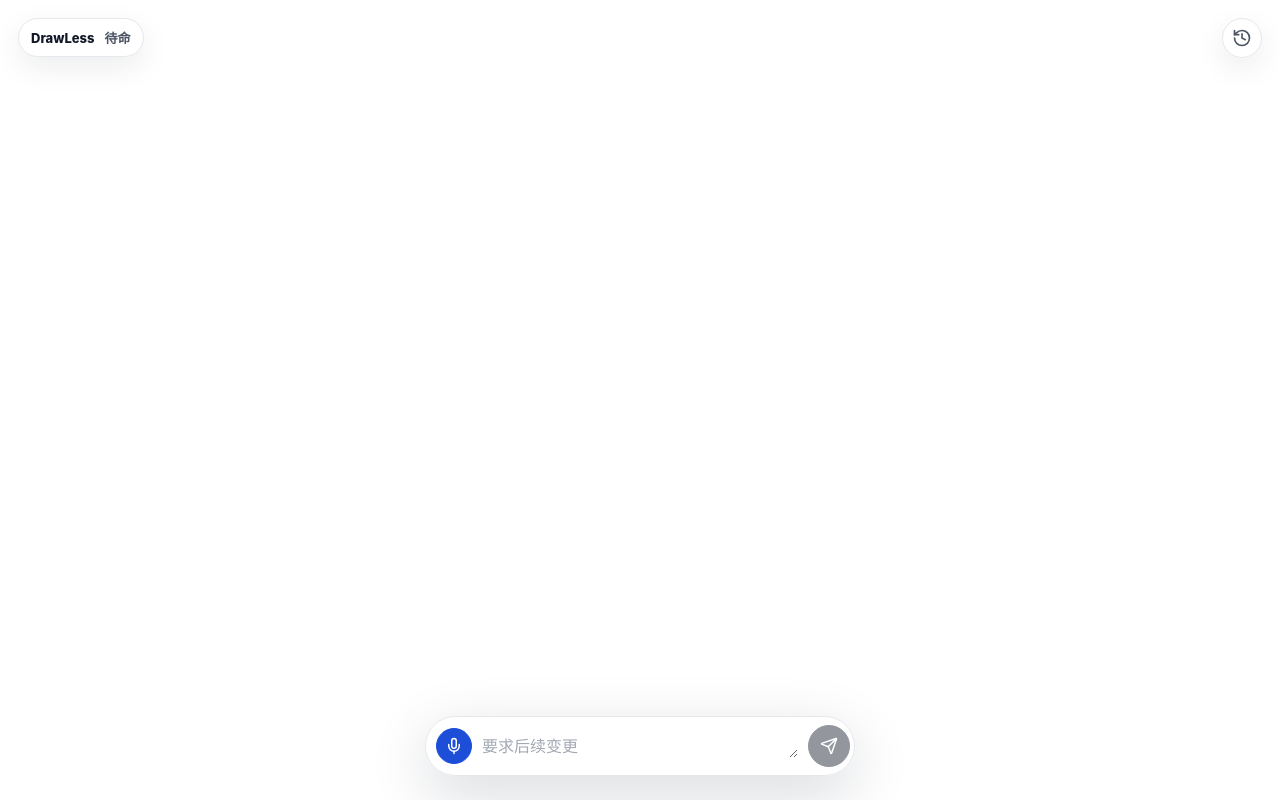
Scenario: App speech fallback › uses a full-canvas workspace with a centered floating command box
Expected: the form named "底部绘图对话框" is shown, [425,716,855,776]
Expected: the button named "查看对话历史" is shown, [1222,18,1262,58]
In the text box named "输入绘图指令": {"x": 640, "y": 746} [482,734,798,758], type "画一个很长很长的产品流程图，左边是用户输入，中间是 AI 理解，右边是可编辑画布，然后继续添加说明文字"
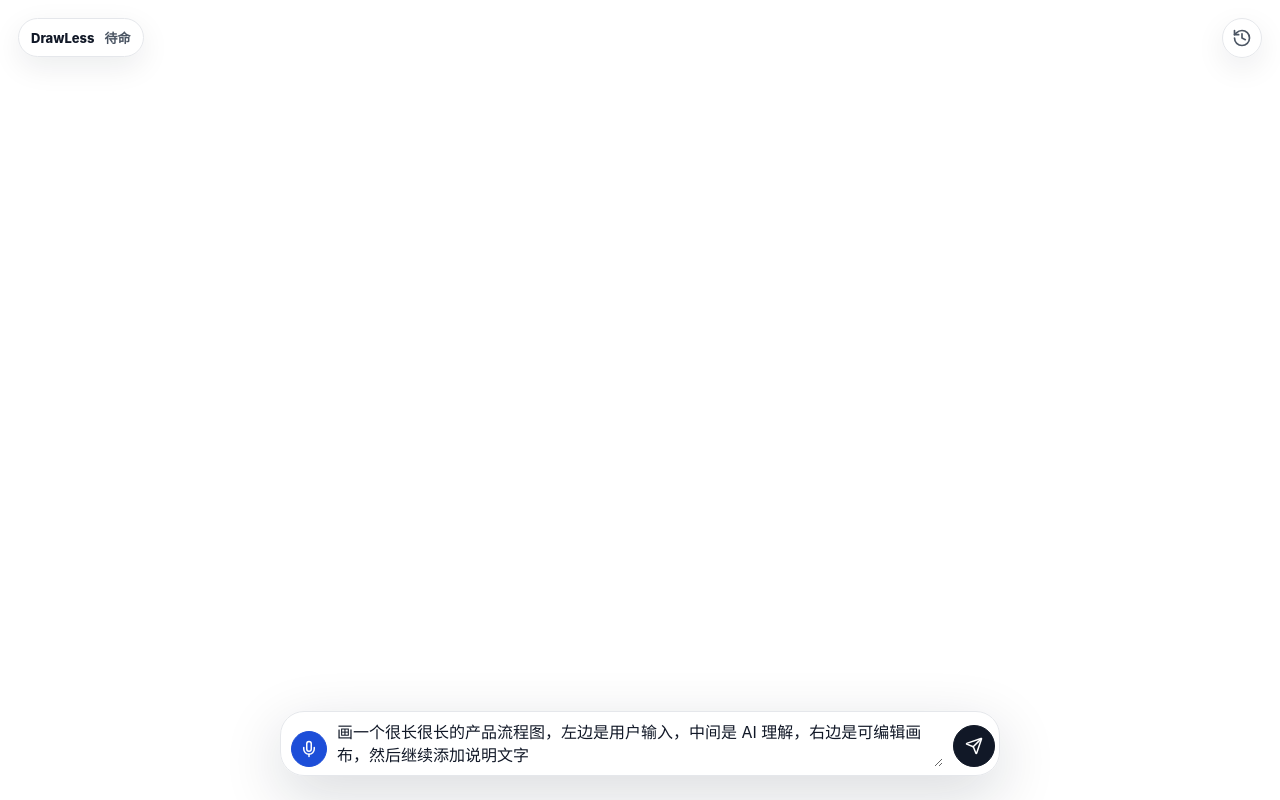
Expected: the form named "底部绘图对话框" has class "is-expanded", [280,711,1000,776]
Expected: the text box named "输入绘图指令" has attribute rows="2"
Clear the text box named "输入绘图指令": {"x": 640, "y": 743} [337,720,943,767]
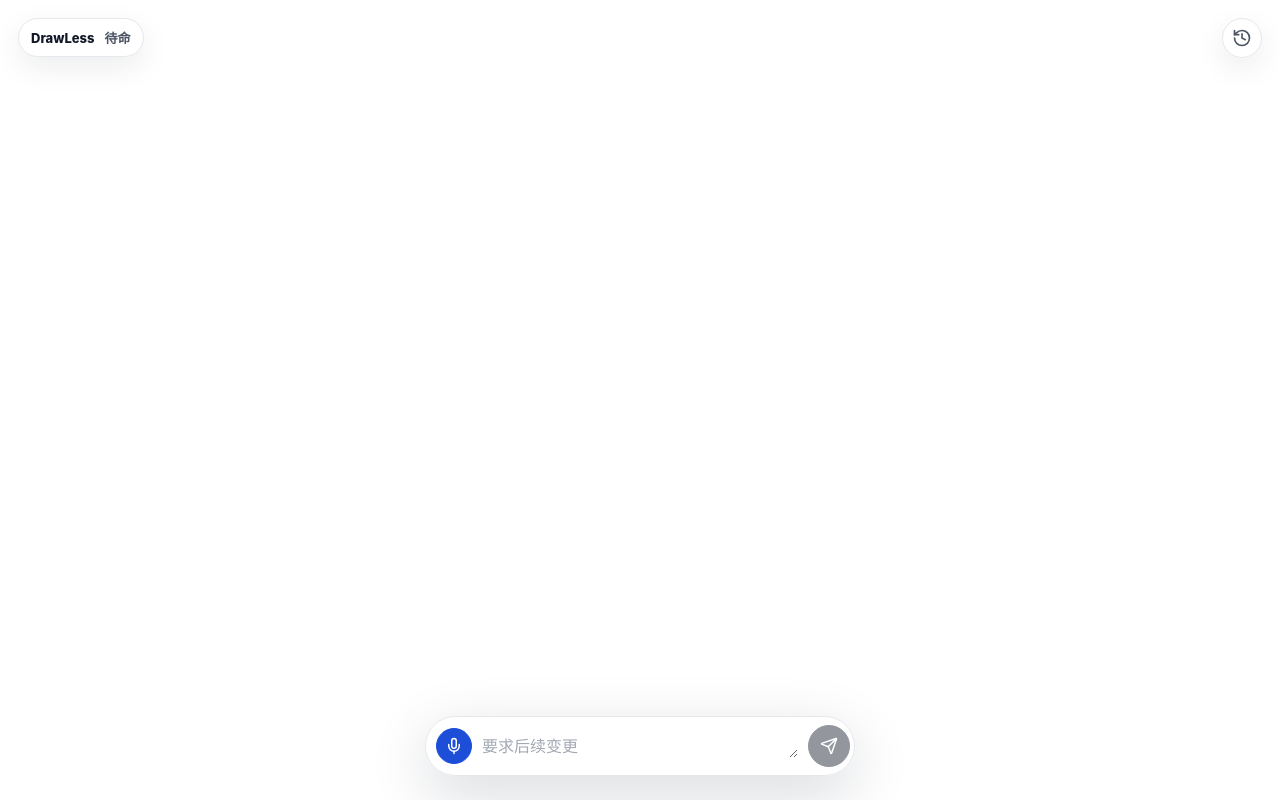
In the text box named "输入绘图指令": {"x": 640, "y": 746} [482,734,798,758], type "画一个红色圆形"
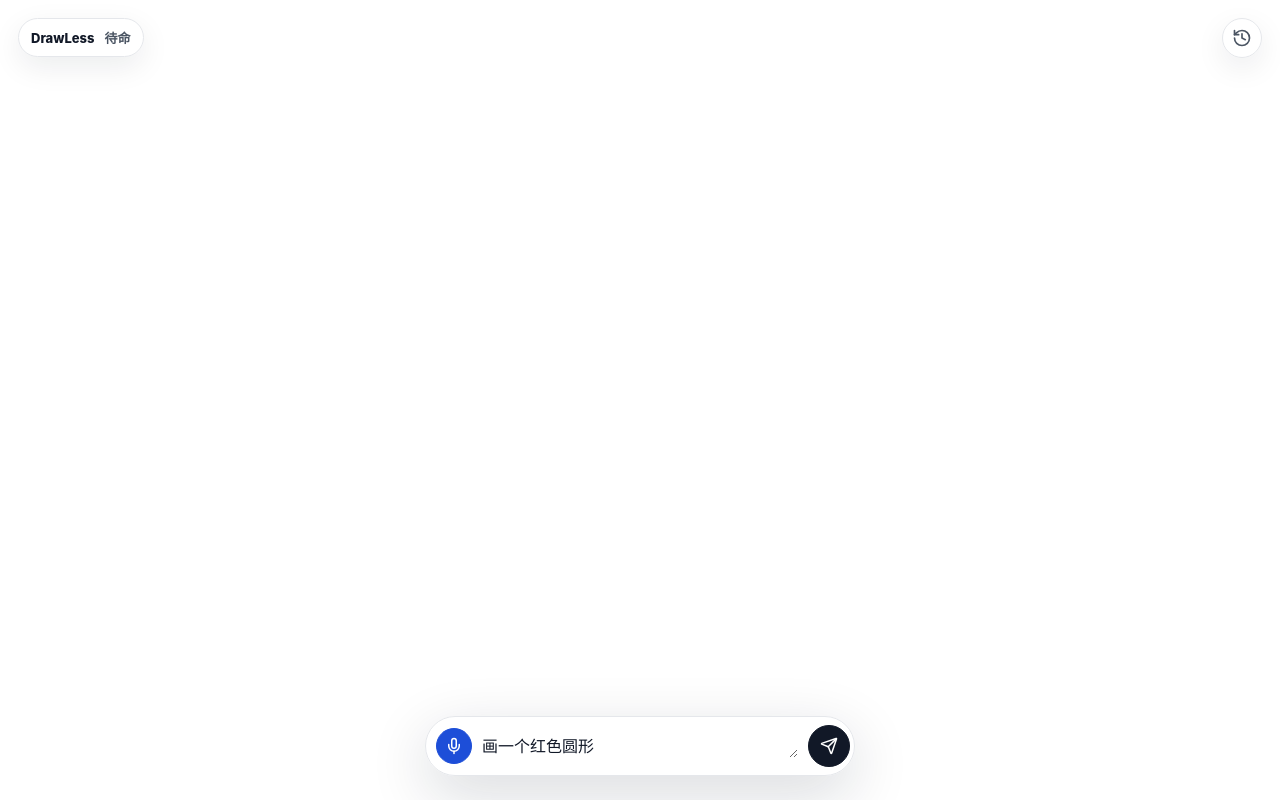
Click the button named "发送指令": {"x": 829, "y": 746} [808,725,850,767]
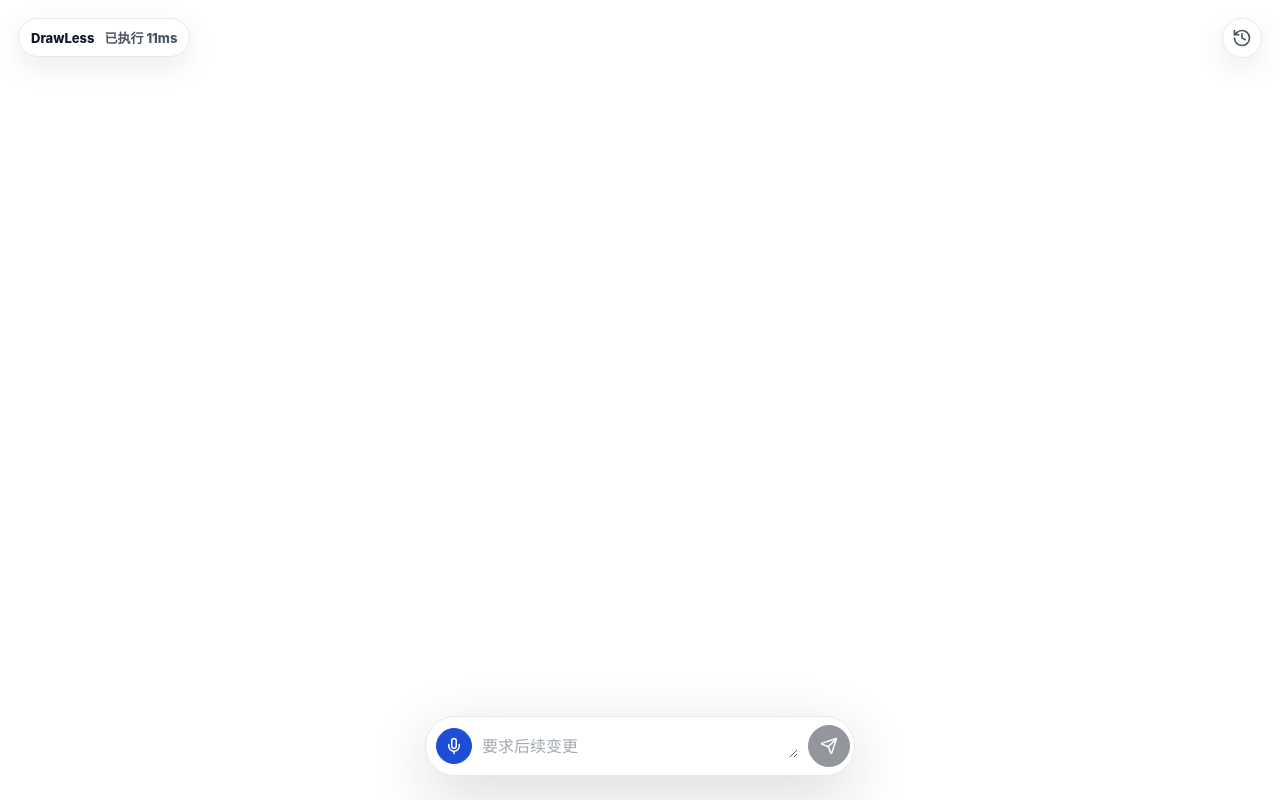
Click the button named "查看对话历史": {"x": 1242, "y": 38} [1222,18,1262,58]
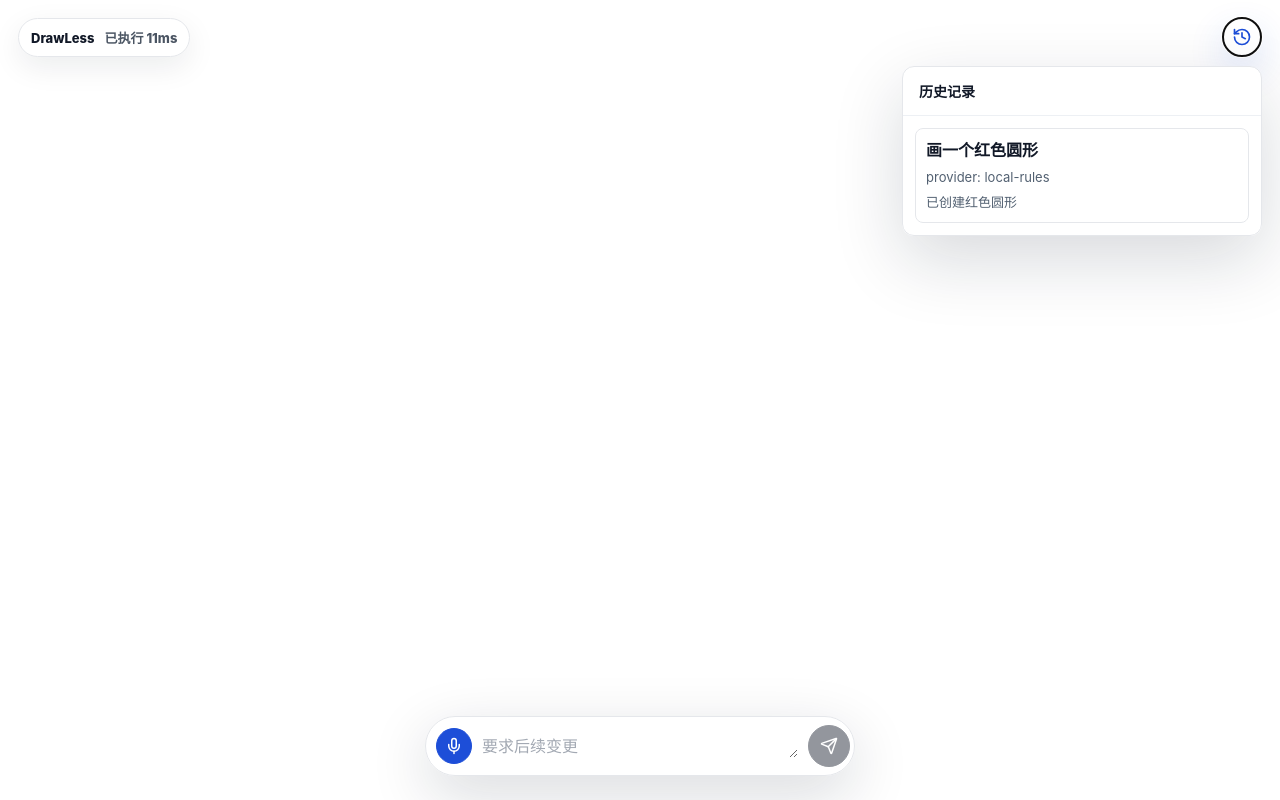
Expected: the element named "对话历史记录" is shown, [902,66,1262,236]
Expected: the text "历史记录" is shown, [919,83,975,100]
Expected: the text "已创建红色圆形" is shown, [926,194,1017,210]
